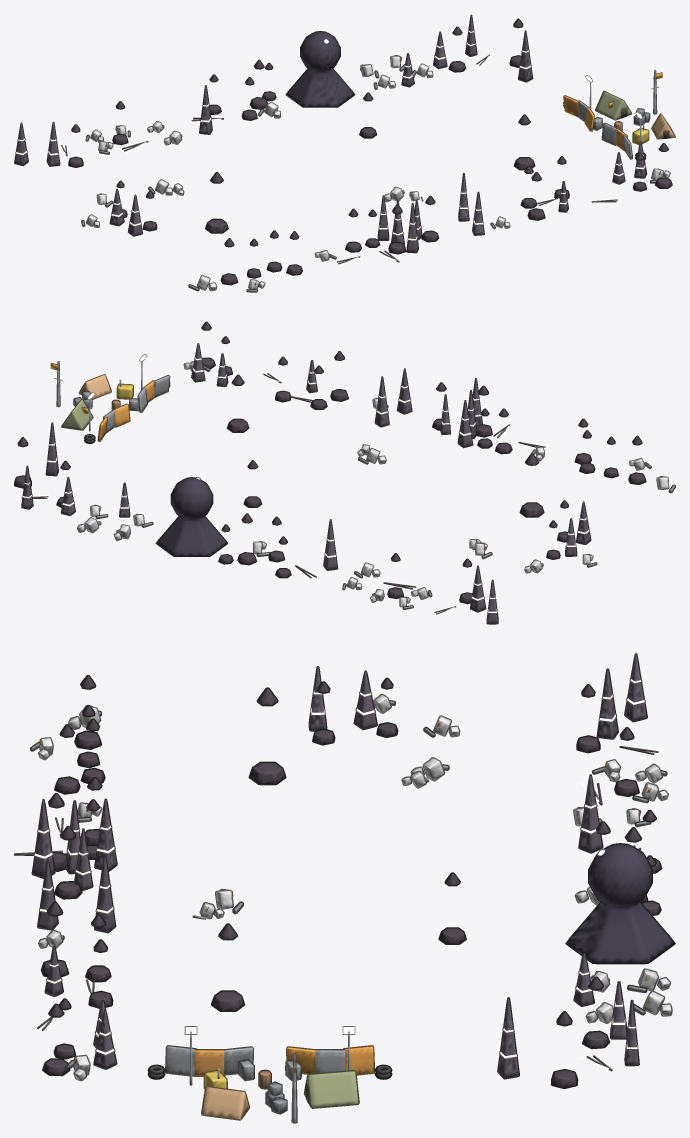
The model's file is the_core.glb.
3 views of the same model, one above another, from view 1: azimuth 30°, elevation 25°; view 2: azimuth 150°, elevation 25°; view 3: azimuth 270°, elevation 25° (orthographic). The views are drawn at different scales.
Visible parts, largest first — view 1: Baked_metal, Baked_metal_Outline, Baked_satin, Baked_matte, Baked_satin_Outline, Baked_glow_ff7b59, Baked_matte_Outline, Baked_glow_ff7b59_Outline; view 2: Baked_metal, Baked_metal_Outline, Baked_satin, Baked_matte, Baked_satin_Outline, Baked_glow_ff7b59, Baked_matte_Outline, Baked_glow_ff7b59_Outline; view 3: Baked_metal, Baked_metal_Outline, Baked_satin, Baked_matte, Baked_satin_Outline, Baked_matte_Outline, Baked_glow_ff7b59, Baked_glow_ff7b59_Outline.
Part boxes in pixels (left/top/right/bottom): Baked_metal: left=14, top=15, right=671, bottom=291; Baked_metal_Outline: left=14, top=14, right=672, bottom=292; Baked_satin: left=86, top=56, right=669, bottom=290; Baked_matte: left=61, top=54, right=674, bottom=287; Baked_satin_Outline: left=85, top=55, right=670, bottom=291; Baked_glow_ff7b59: left=16, top=31, right=645, bottom=240; Baked_matte_Outline: left=87, top=56, right=675, bottom=285; Baked_glow_ff7b59_Outline: left=15, top=30, right=645, bottom=240; Baked_metal: left=14, top=322, right=675, bottom=623; Baked_metal_Outline: left=14, top=321, right=675, bottom=624; Baked_satin: left=51, top=361, right=668, bottom=606; Baked_matte: left=21, top=373, right=668, bottom=614; Baked_satin_Outline: left=50, top=361, right=669, bottom=607; Baked_glow_ff7b59: left=23, top=357, right=589, bottom=612; Baked_matte_Outline: left=61, top=374, right=668, bottom=601; Baked_glow_ff7b59_Outline: left=22, top=357, right=589, bottom=613; Baked_metal: left=31, top=654, right=674, bottom=1122; Baked_metal_Outline: left=30, top=653, right=675, bottom=1123; Baked_satin: left=39, top=695, right=671, bottom=1080; Baked_matte: left=14, top=695, right=668, bottom=1119; Baked_satin_Outline: left=38, top=693, right=672, bottom=1081; Baked_matte_Outline: left=39, top=694, right=656, bottom=1120; Baked_glow_ff7b59: left=34, top=679, right=644, bottom=1058; Baked_glow_ff7b59_Outline: left=33, top=677, right=645, bottom=1059.
Size of the model in its own units: 40.82 by 4.51 by 26.82.
